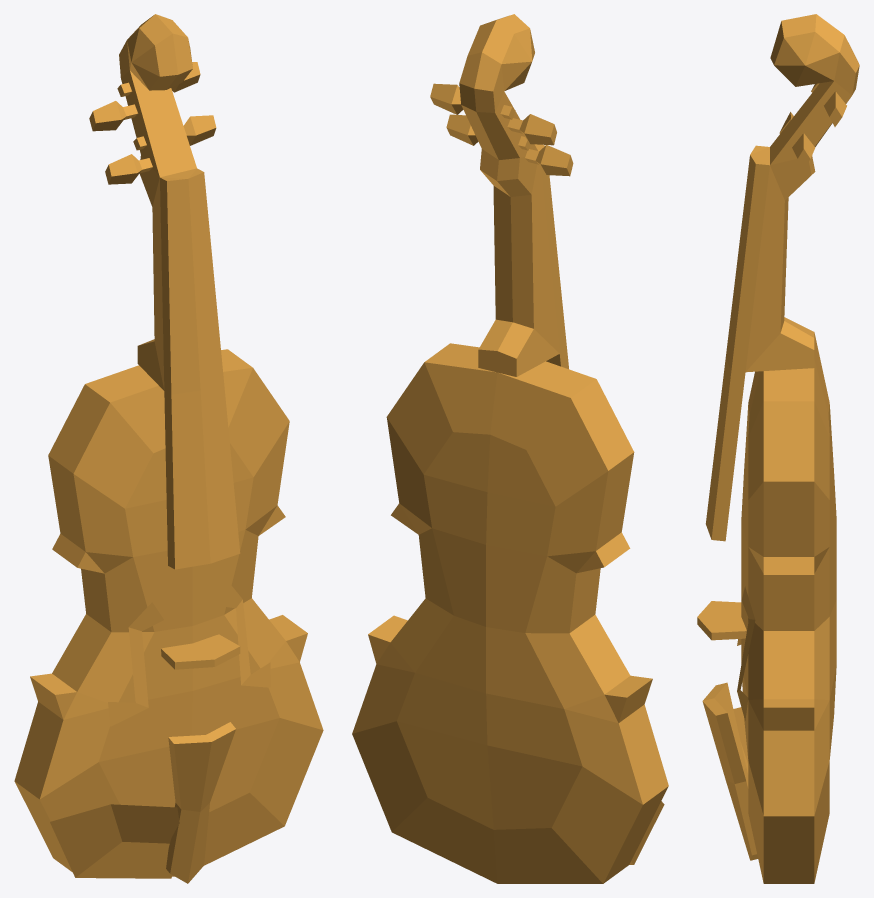
Rendered from violin.fbx.
The picture shows the model from 3 angles, left to right: view 1: azimuth 30°, elevation 25°; view 2: azimuth 150°, elevation 25°; view 3: azimuth 270°, elevation 25°; orthographic projection. The views are drawn at different scales.
Parts seen in each view (by area): view 1: violin; view 2: violin; view 3: violin.
Boxes of the visible parts, x1,y1,x2,y2 form: violin: (14, 14, 323, 883); violin: (352, 14, 668, 883); violin: (697, 14, 859, 883).
Size of the model in its own units: 0.2163 by 0.6157 by 0.107.
